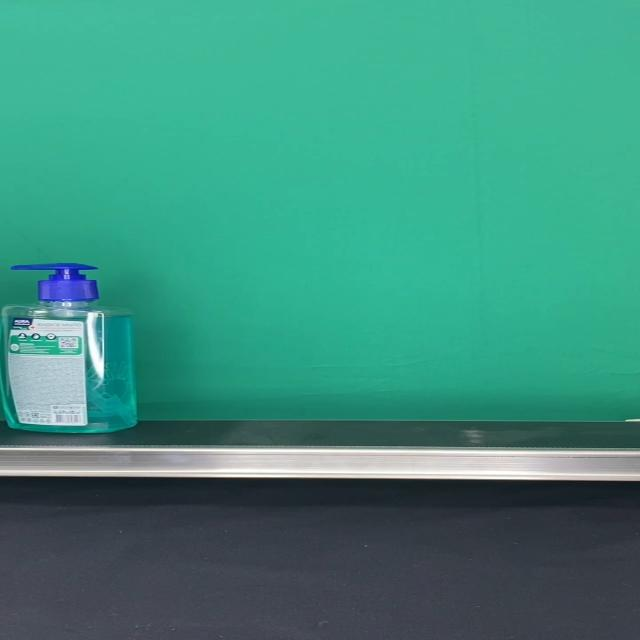Bottle: (0, 262, 138, 433)
Cap: (9, 262, 99, 301)
